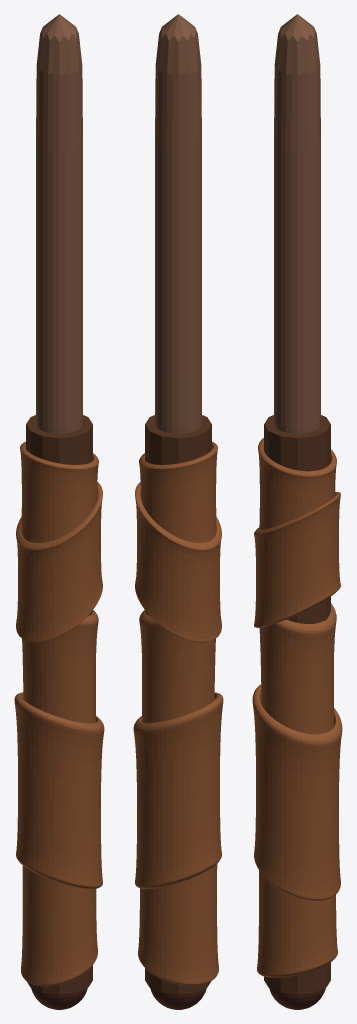
File: Wand 313.glb
The picture shows the model from 3 angles, left to right: view 1: azimuth 30°, elevation 25°; view 2: azimuth 150°, elevation 25°; view 3: azimuth 330°, elevation 25°; orthographic projection.
Parts seen in each view (by area): view 1: GeneratedWand; view 2: GeneratedWand; view 3: GeneratedWand.
Boxes of the visible parts, x1,y1,x2,y2 form: GeneratedWand: [14, 14, 104, 1009]; GeneratedWand: [133, 14, 223, 1009]; GeneratedWand: [252, 14, 342, 1009].
Bounding box in the file's own units: 0.0408 × 0.497 × 0.0408.
